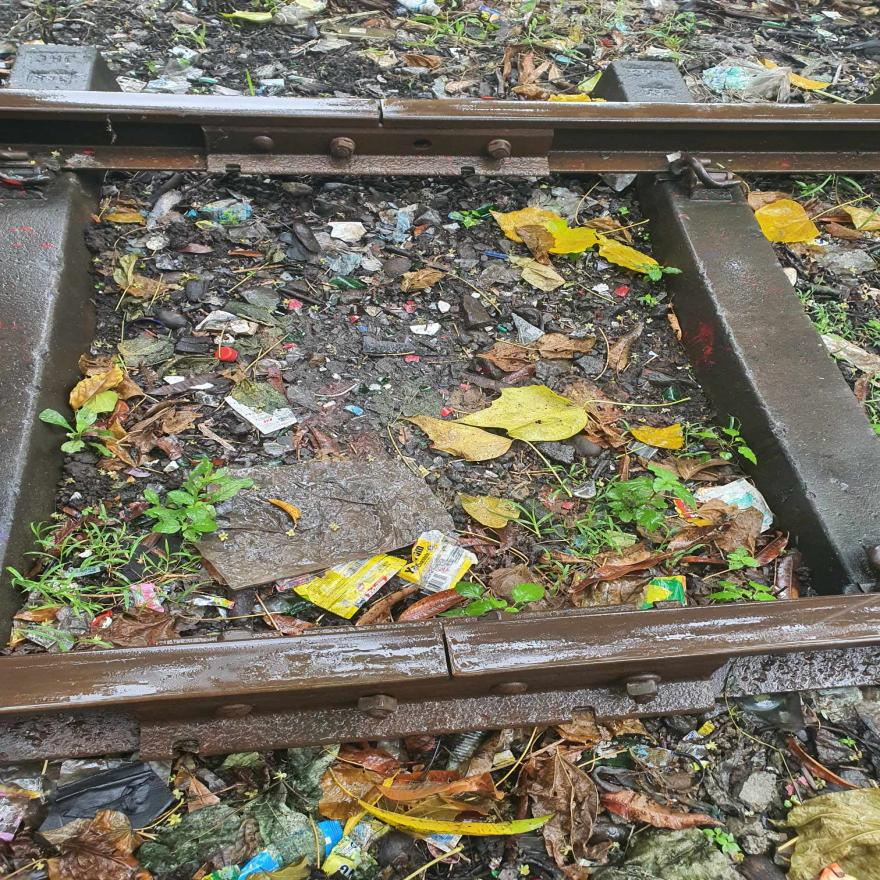railway-gap: (374, 600, 523, 706), (322, 73, 443, 149)
